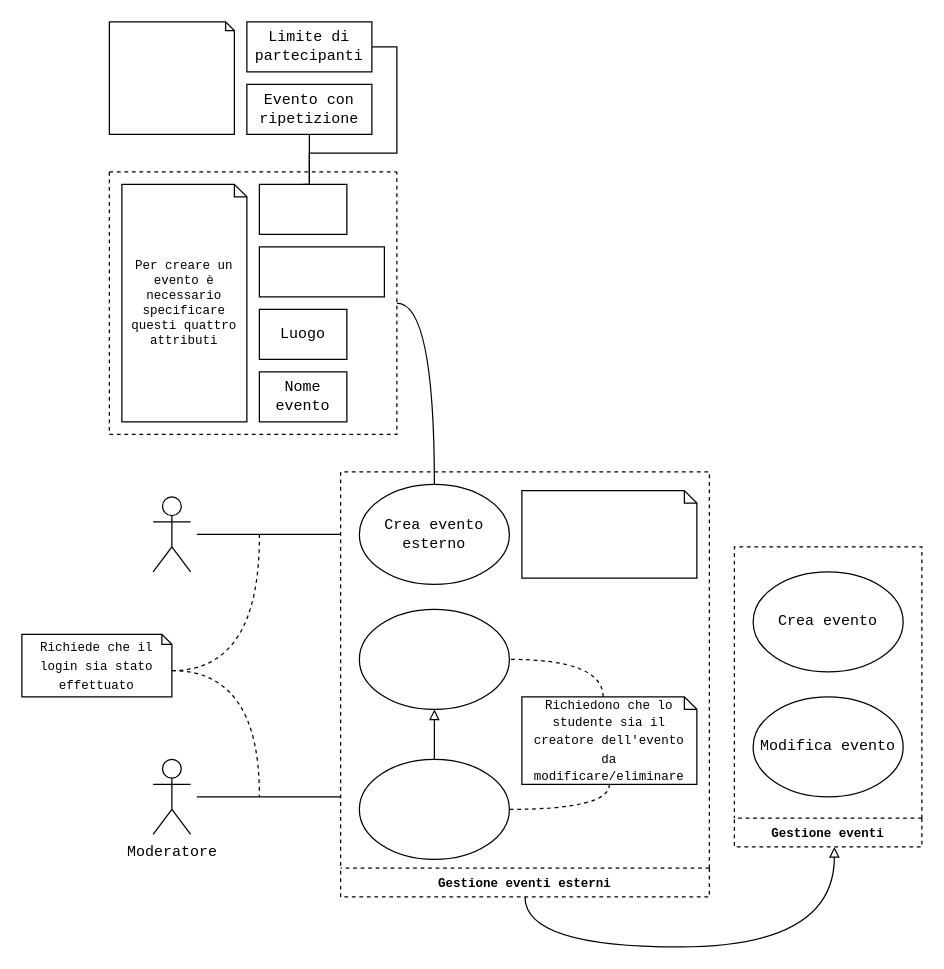
The diagram is 944 pixels wide and 969 high, and some of its shapes have lost their labels. Each missing label, with the centre of its shape:
Data: the point at 302,208
Descrizione evento: the point at 321,271
Elimina evento esterno: the point at 433,808
I moderatori possono accedere a queste funzioni senza restrizioni: the point at 609,533
Modifica evento esterno: the point at 433,658
Questi attributi sono opzionali: the point at 171,77
Studente: the point at 171,534
